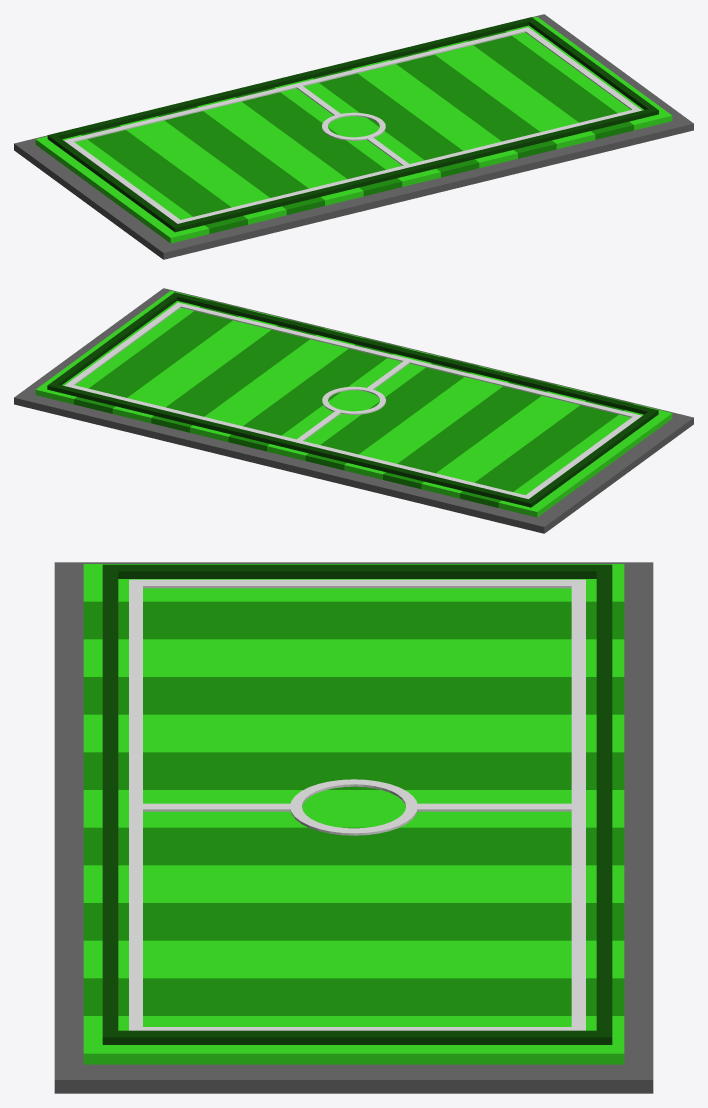
File: cancha.fbx
3 views of the same model, one above another, from view 1: azimuth 30°, elevation 25°; view 2: azimuth 150°, elevation 25°; view 3: azimuth 270°, elevation 25° (orthographic). The views are drawn at different scales.
Parts seen in each view (by area): view 1: Cube.004; view 2: Cube.004; view 3: Cube.004.
Part boxes in pixels (<box>): Cube.004: <box>14,14,693,259</box>; Cube.004: <box>14,288,693,533</box>; Cube.004: <box>54,562,653,1093</box>.
Size of the model in its own units: 1586 by 48.56 by 774.
Materials: 1 (1 with a texture image).
